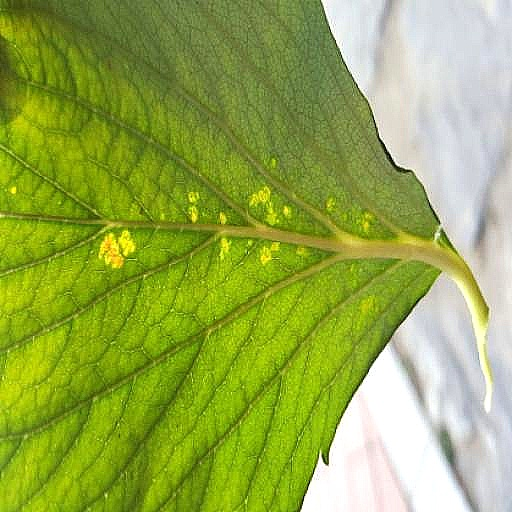Angular Leafspot: (5, 238, 385, 362)
